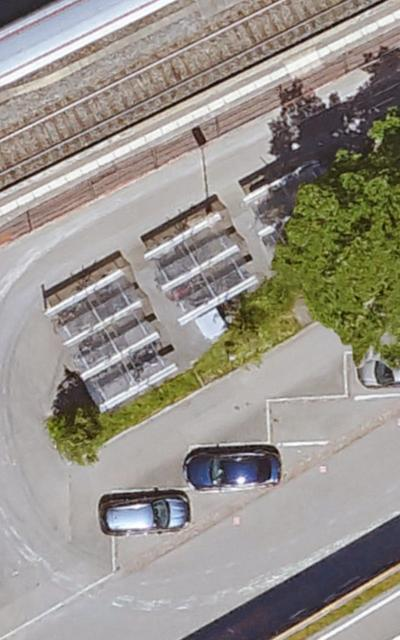tree: (283, 123, 400, 347), (44, 402, 104, 467)
